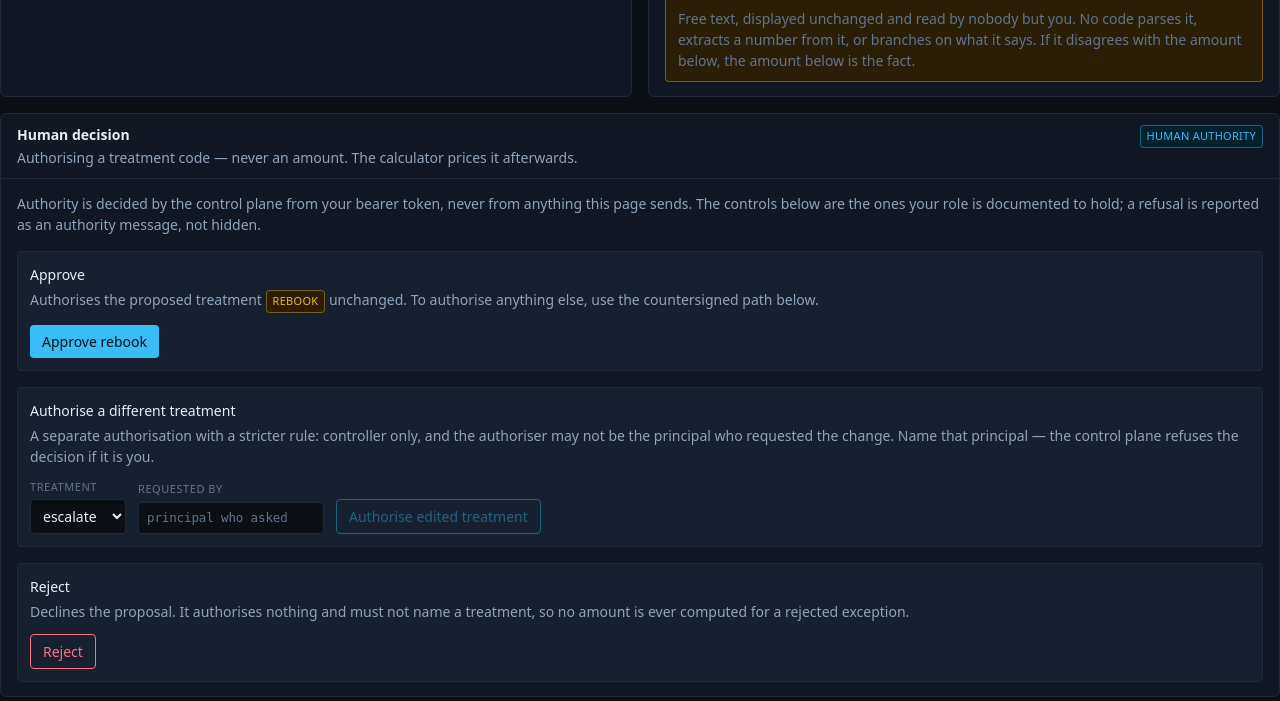
Test: queue → detail → approve › approves the proposed treatment and reports the consumed idempotency key
The image size is (1280, 701).
(page scrolled)
Step 1. Click the button "Approve rebook" → {"x": 94, "y": 341}, box [30, 325, 159, 358]
(page scrolled)
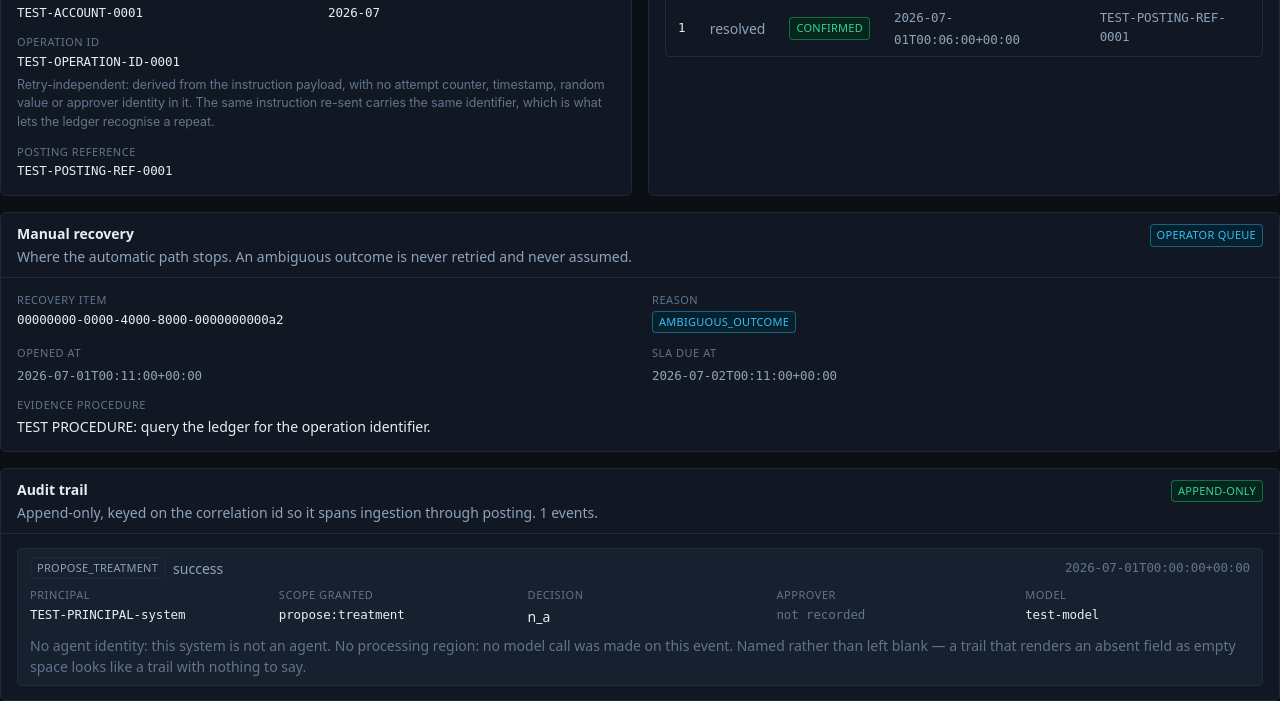
expect the text "TEST-OPERATION-ID-0001" is shown: met, box [17, 54, 180, 69]
expect the text "TEST-ACCOUNT-0001" is shown: met, box [17, 5, 143, 20]
expect the text "TEST PROCEDURE: query the ledger for the operation identifier." is shown: met, box [17, 417, 430, 436]
